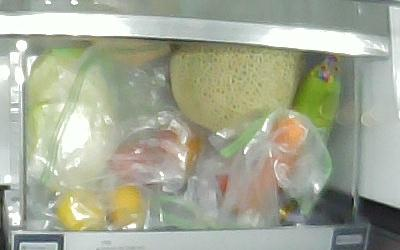cabbage_vinyl: (27, 48, 116, 190)
carrot_vinyl: (239, 115, 305, 212)
melon: (169, 43, 307, 130)
prune_vinyl: (152, 129, 200, 175), (111, 140, 154, 187)
tangerine_vinyl: (57, 189, 107, 232), (108, 186, 144, 228)
zucchini_vinyl: (292, 55, 342, 147)
